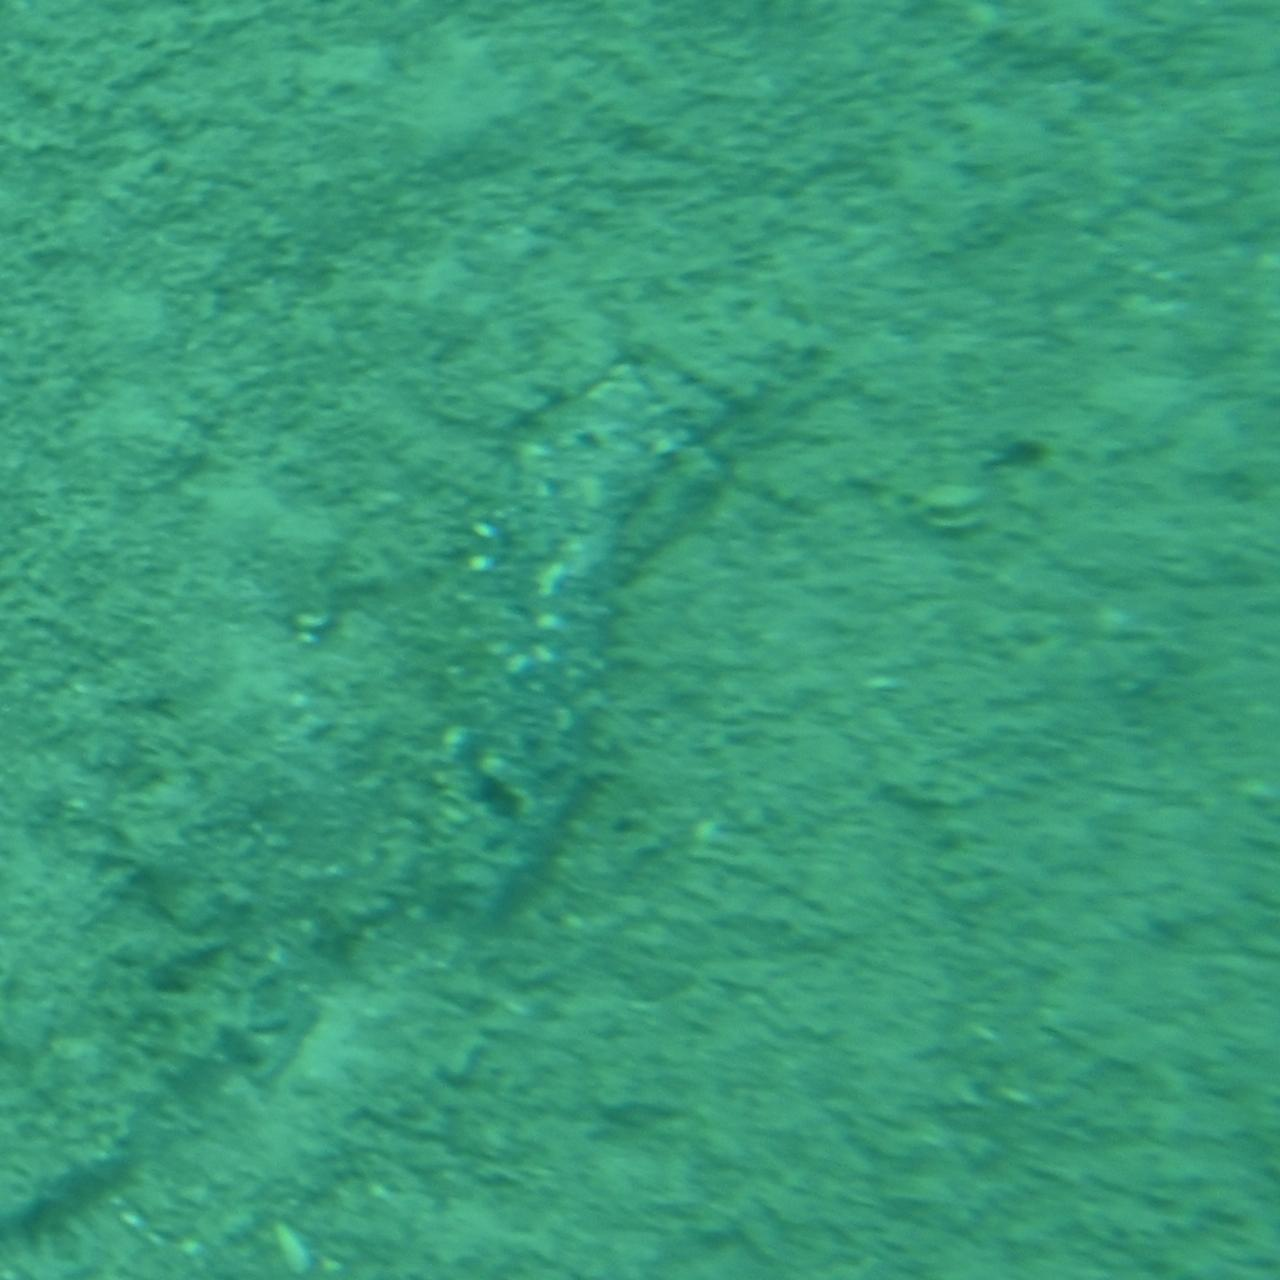Holothuria tubulosa: (492, 400, 788, 880)
